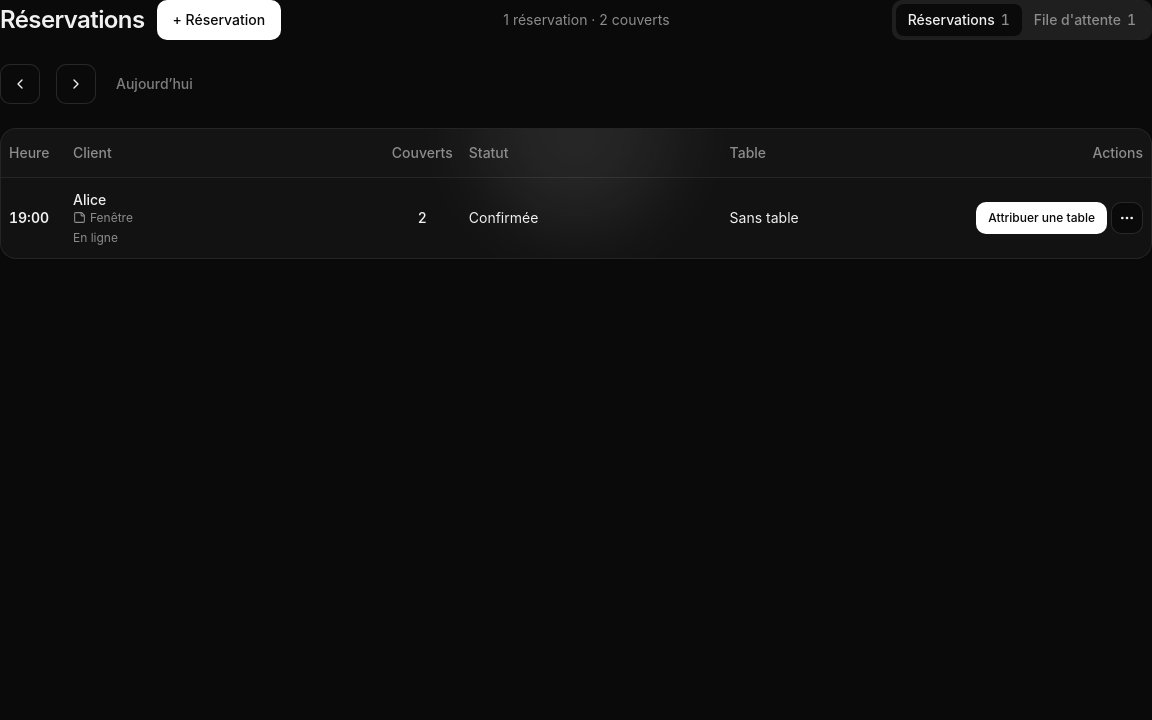
Scenario: ReservationsPage › affiche les détails et conserve la saisie après un conflit
Click the text "Alice": (90, 199) [73,190,106,208]
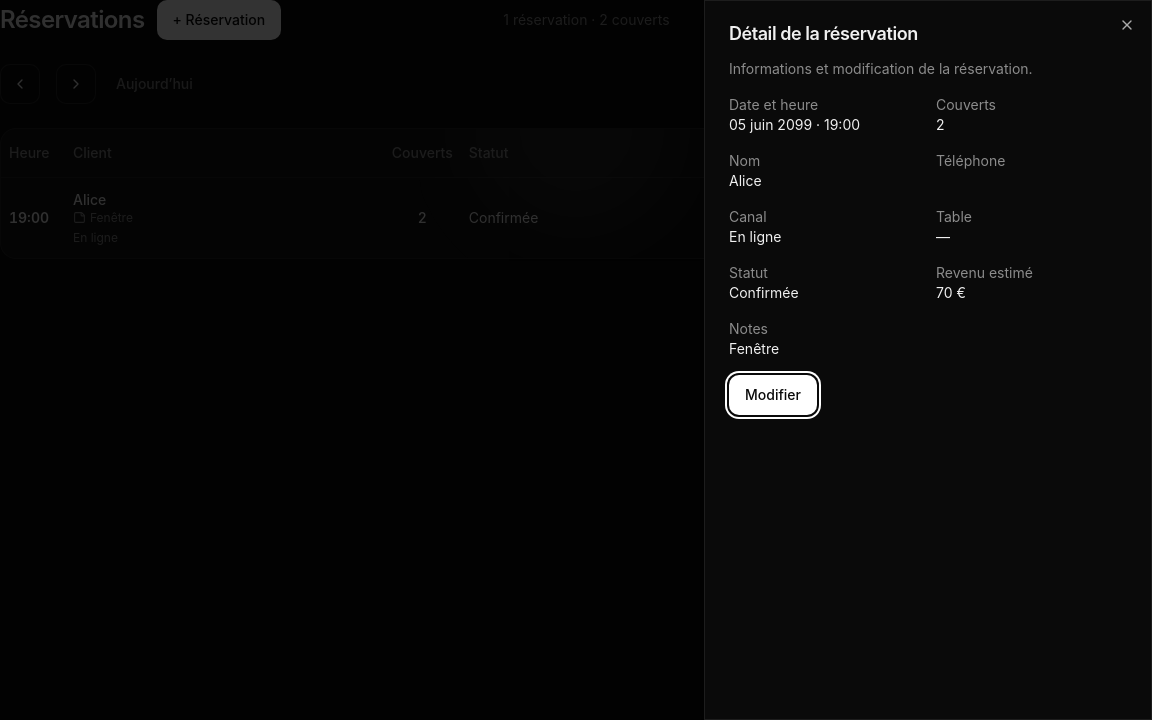
Now the dialog "Détail de la réservation" is shown, box [704,0,1151,719]
Click the button "Modifier": (773, 395) [729,375,817,415]
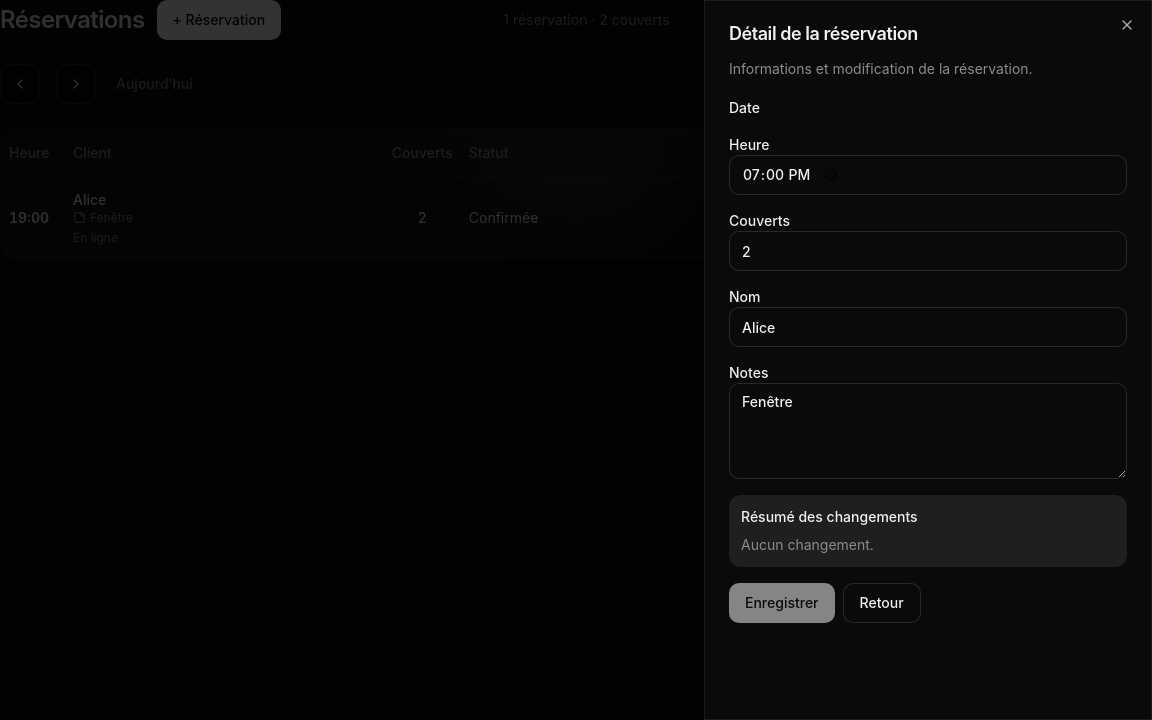
Replace the text in the number field labelled "Couverts" with "3": (928, 251) [729,231,1127,271]
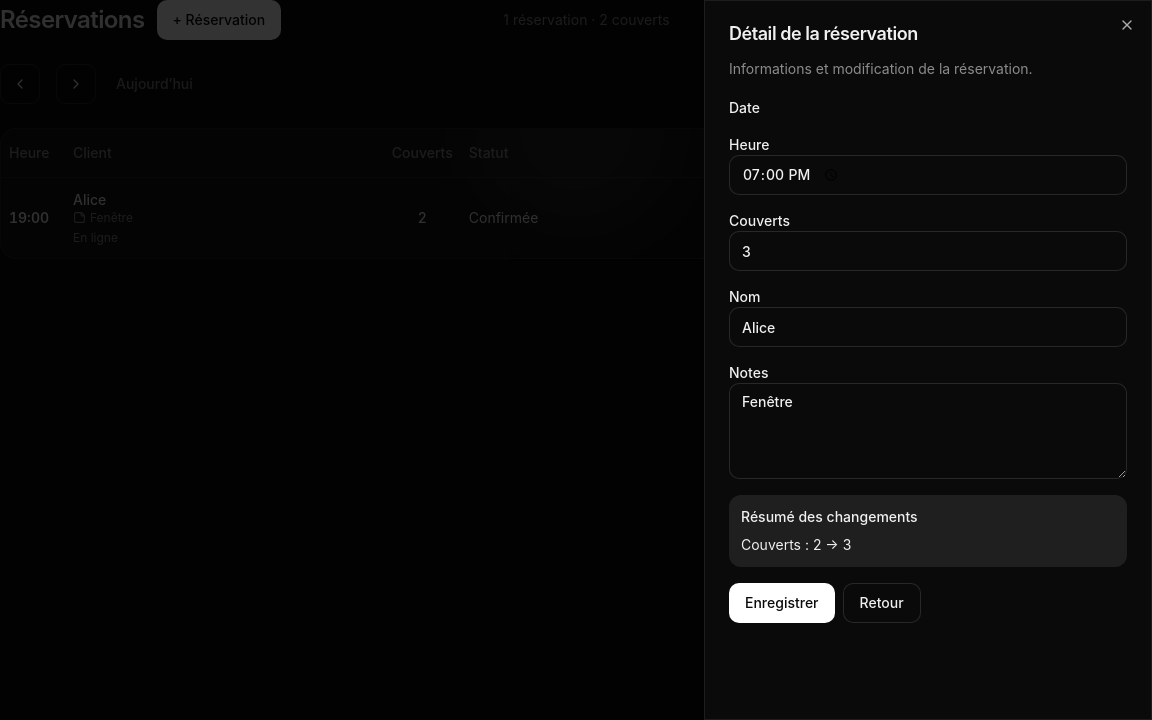
Replace the text in the text box labelled "Notes" with "Terrasse": (928, 431) [729,383,1127,479]
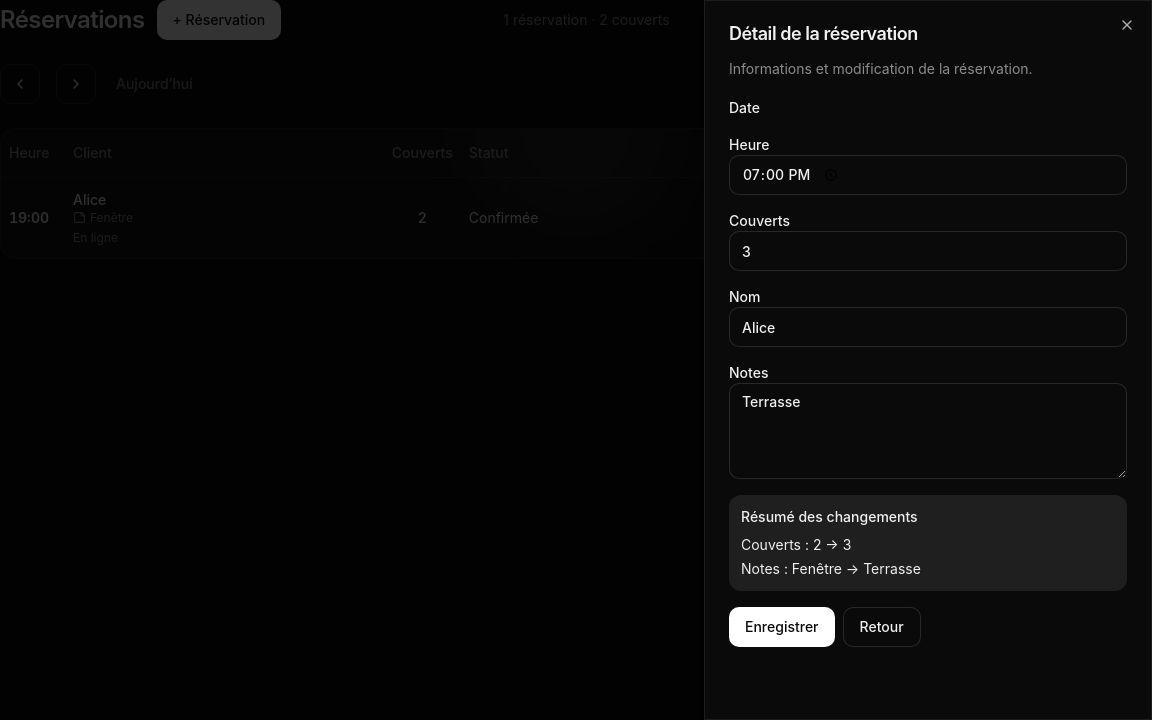
Now the list item "Couverts : 2 → 3" is shown, box [741,536,851,553]
Click the button "Enregistrer": (782, 627) [729,607,834,647]
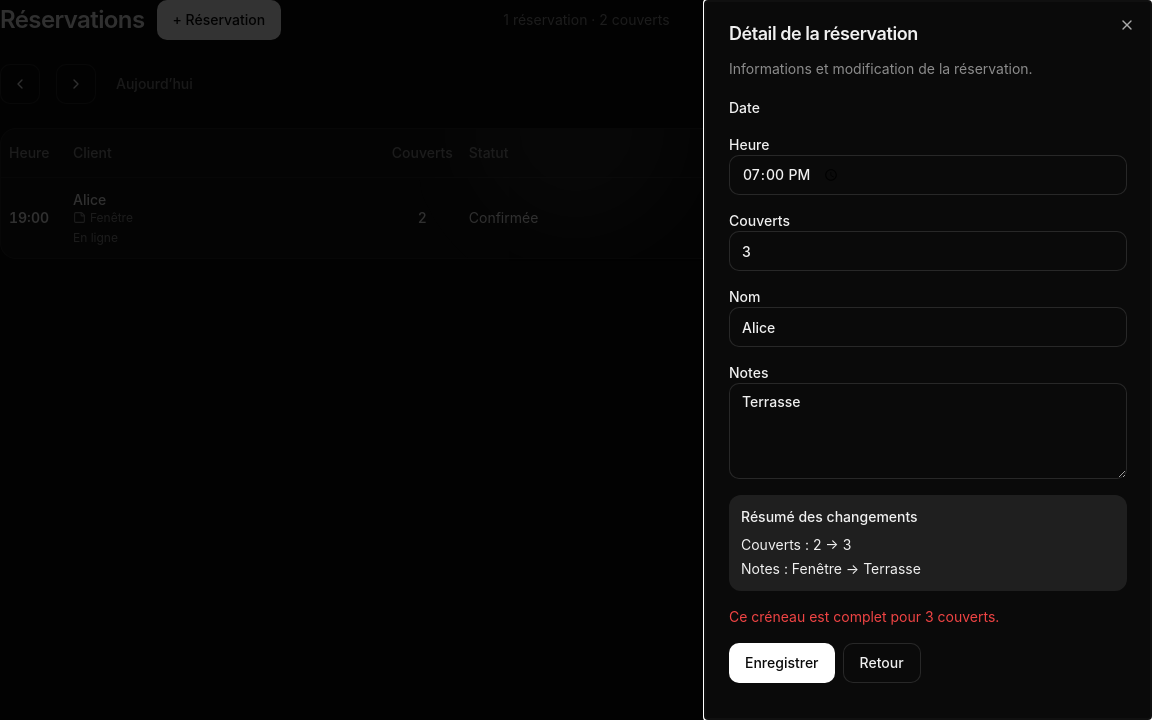
Now the message reads "Ce créneau est complet pour 3 couverts.", box [729,608,999,625]
